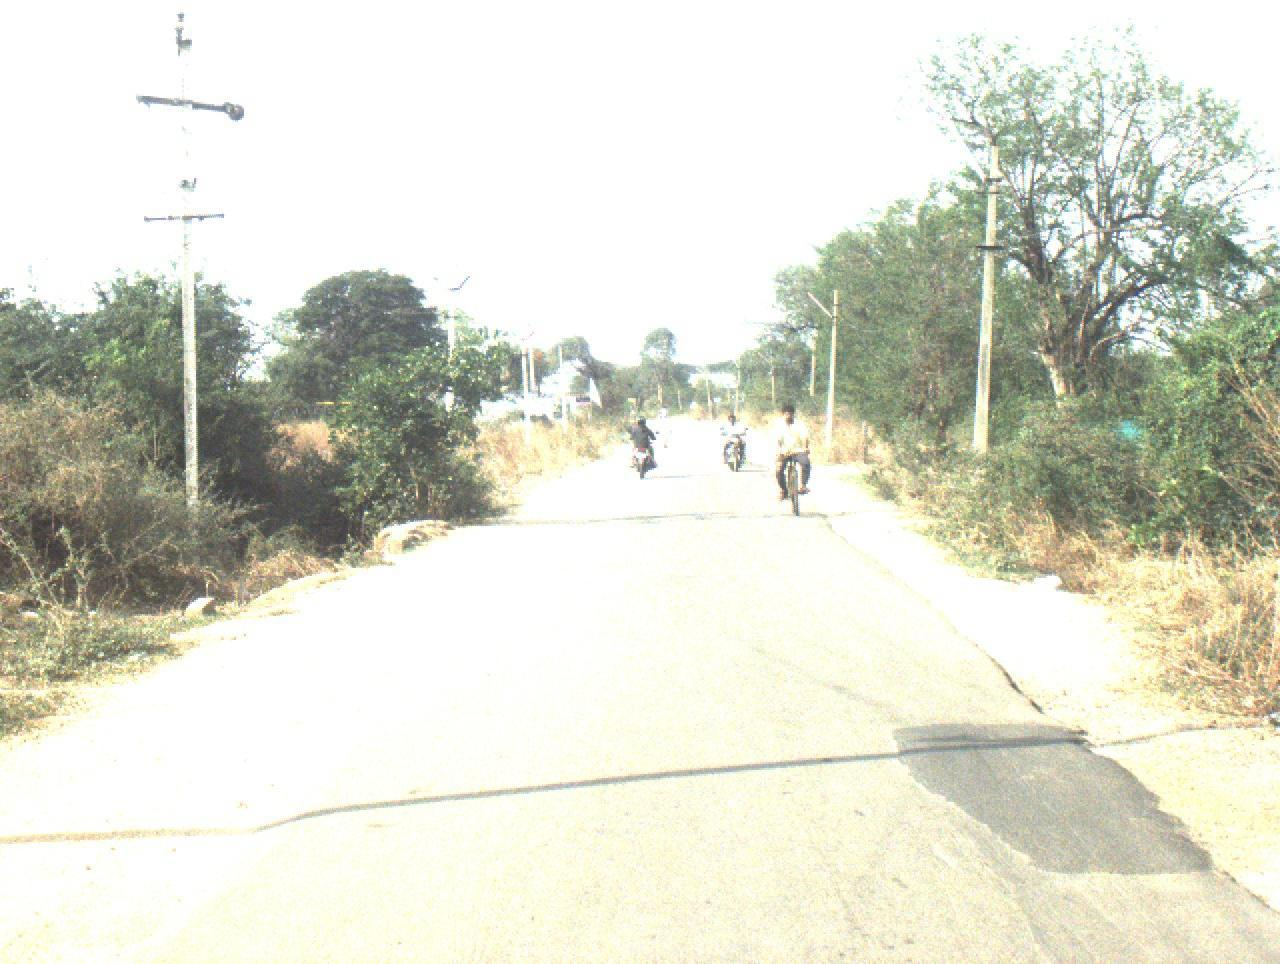off: (95, 0, 1280, 964)
